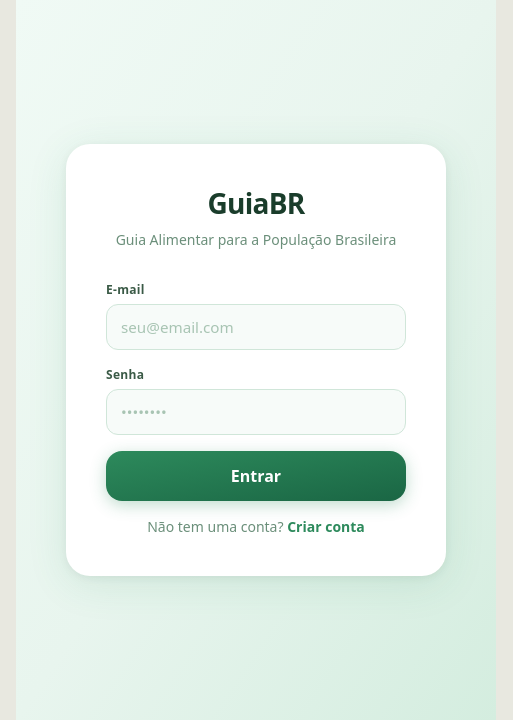
Test: Login › mostra erro quando as credenciais estao incorretas
In the field with id "email": [256, 327] box x1=106 y1=304 x2=406 y2=350, type "teste@guiabr.com"
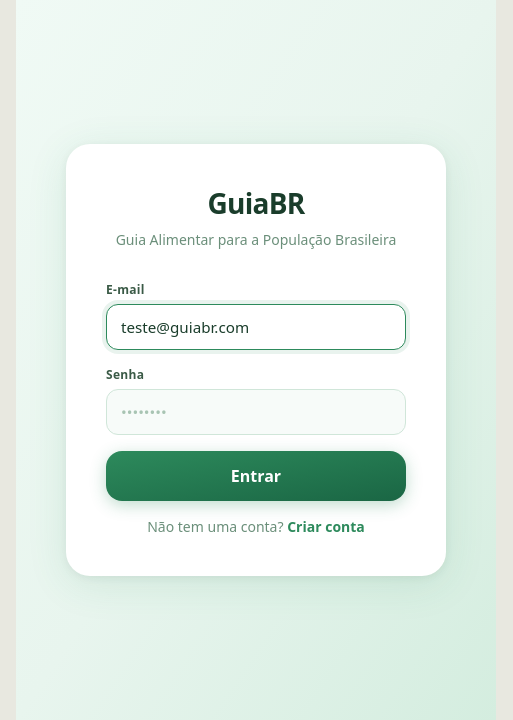
In the password field with id "senha": [256, 412] box x1=106 y1=389 x2=406 y2=435, type "senhaerrada"
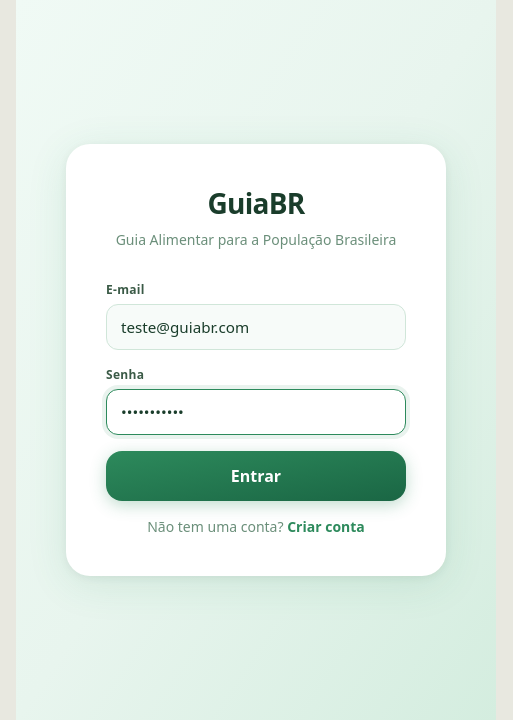
Click the submit button: [256, 476] box x1=106 y1=451 x2=406 y2=501
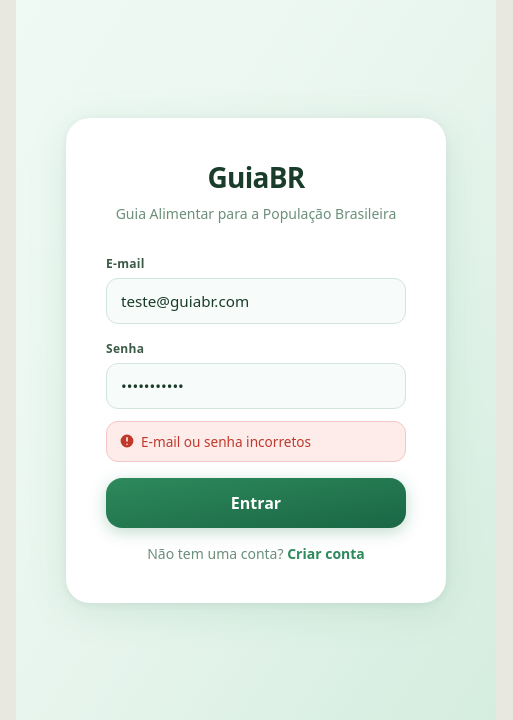
Check: the text "E-mail ou senha incorretos" is shown, box x1=106 y1=420 x2=406 y2=462
